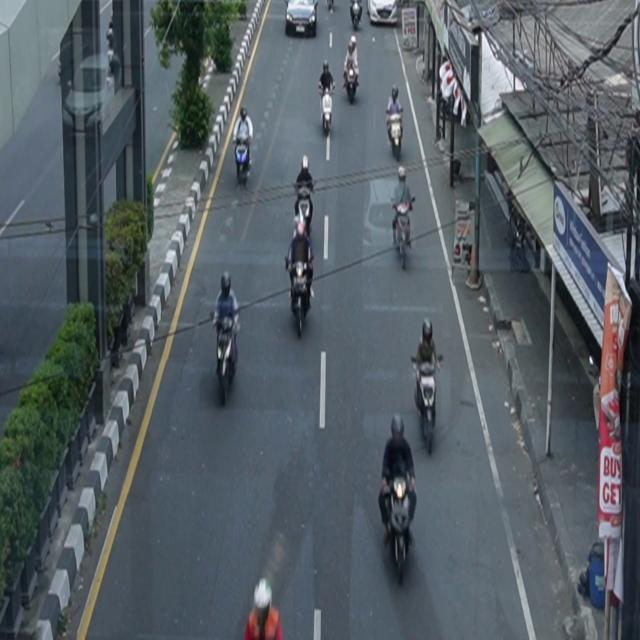car: (286, 1, 320, 38)
